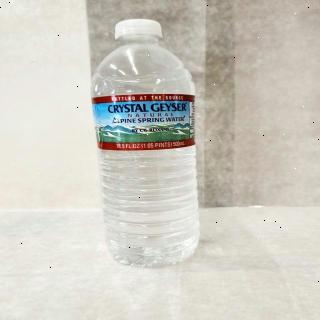Plastic-bottle: (86, 17, 210, 272)
